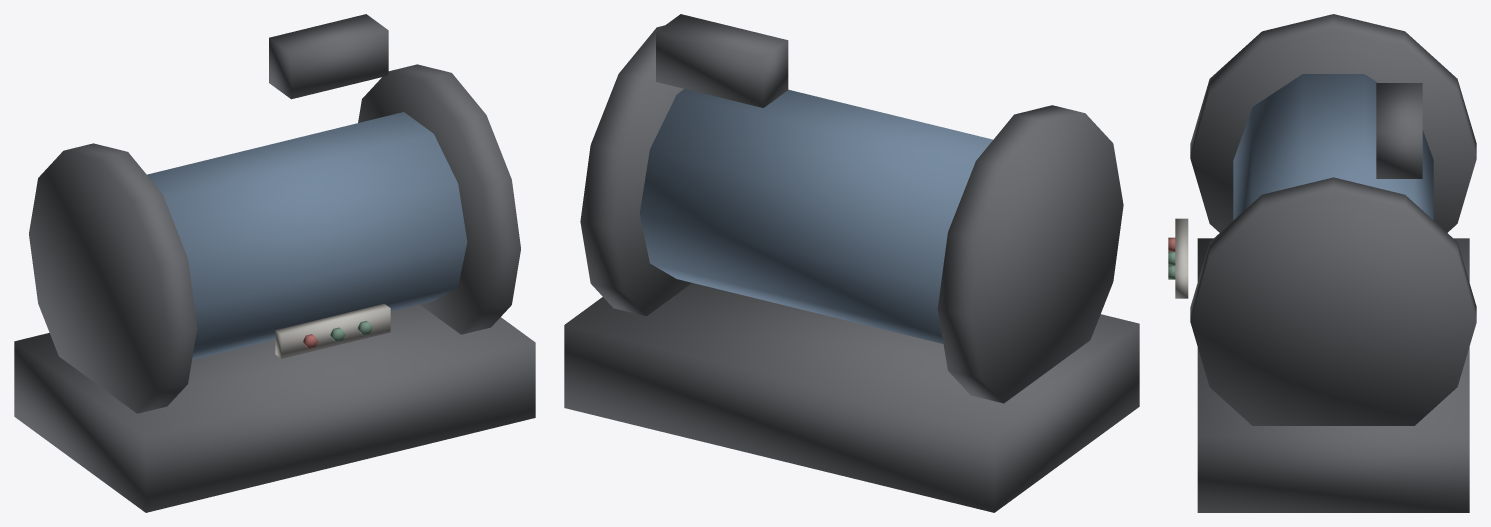
File: bench_grinder__service.glb
3 views of the same model, side by side, from view 1: azimuth 30°, elevation 25°; view 2: azimuth 150°, elevation 25°; view 3: azimuth 270°, elevation 25° (orthographic). The views are drawn at different scales.
Parts seen in each view (by area): view 1: world; view 2: world; view 3: world.
Part boxes in pixels (<box>): world: <box>14,14,535,512</box>; world: <box>564,14,1139,512</box>; world: <box>1168,14,1476,512</box>.
Size of the model in its own units: 0.65 by 0.54 by 0.431.
